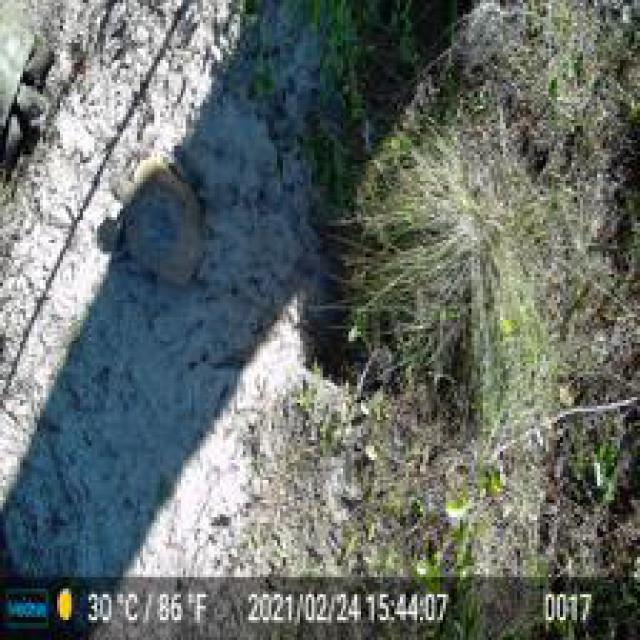tortoise: (106, 149, 214, 295)
